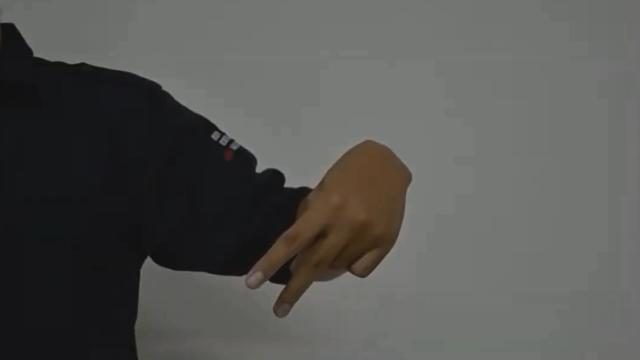P: (238, 135, 414, 321)
